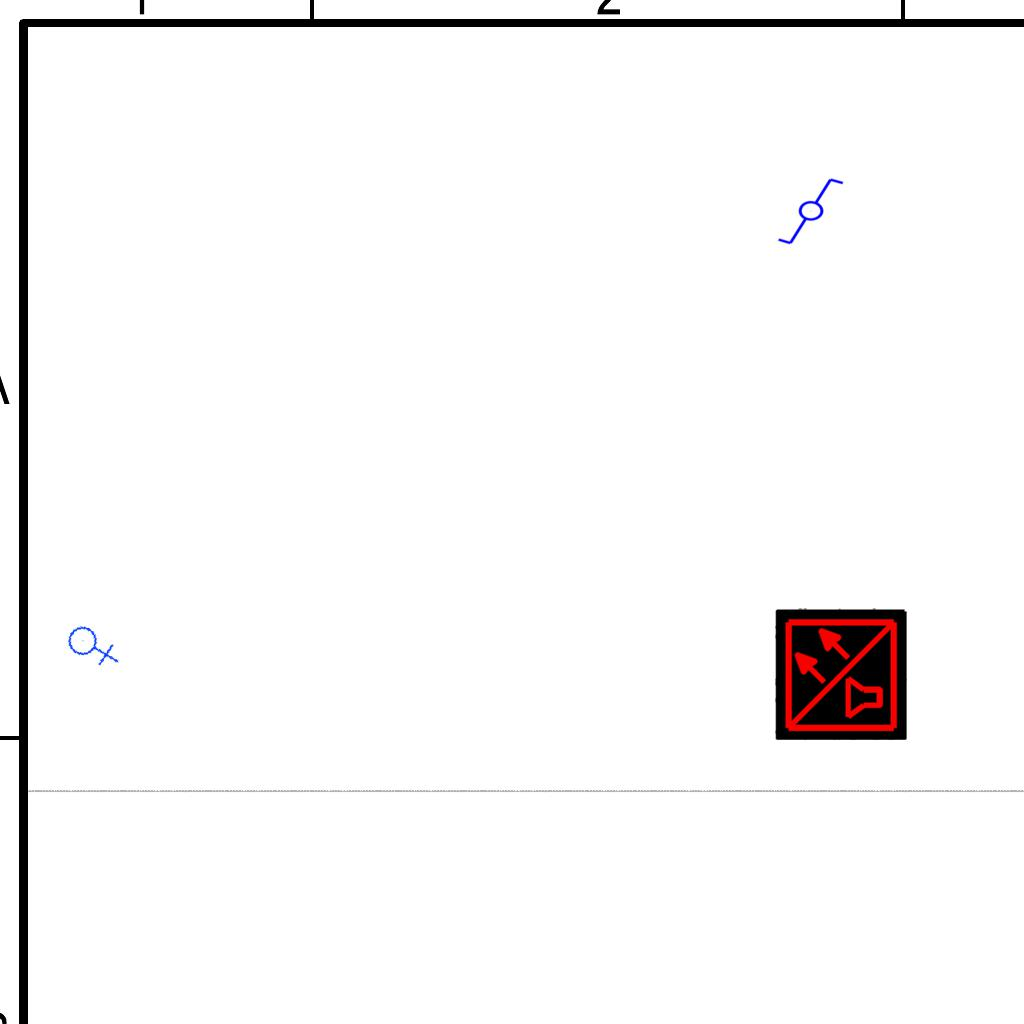Elektroanschluss_allgemein_230V_Geraeteanschlussdose_230V: (63, 614, 122, 675)
OKW_Multisensormelder_(Kombination_optischer_Rauch-Kahlenmonoxid_Waerme-Melder): (775, 608, 907, 740)
Wechselschalter: (776, 176, 854, 248)
